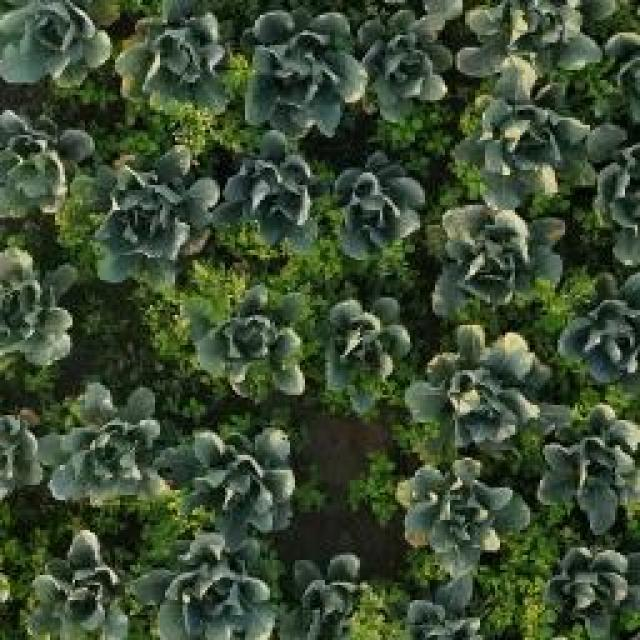cabbage: (98, 151, 217, 280), (457, 92, 599, 196), (43, 382, 160, 506), (152, 535, 282, 640), (200, 287, 312, 405), (418, 322, 530, 440), (246, 9, 364, 117), (438, 200, 550, 308), (221, 132, 321, 246), (405, 467, 517, 568), (332, 152, 424, 272), (119, 17, 238, 107), (194, 431, 298, 532), (468, 0, 597, 81), (38, 542, 146, 638), (0, 0, 113, 87), (542, 415, 640, 513), (0, 251, 76, 369), (546, 547, 640, 640), (0, 114, 85, 212), (365, 23, 456, 114), (289, 550, 376, 640), (325, 302, 411, 393), (562, 290, 640, 382)
